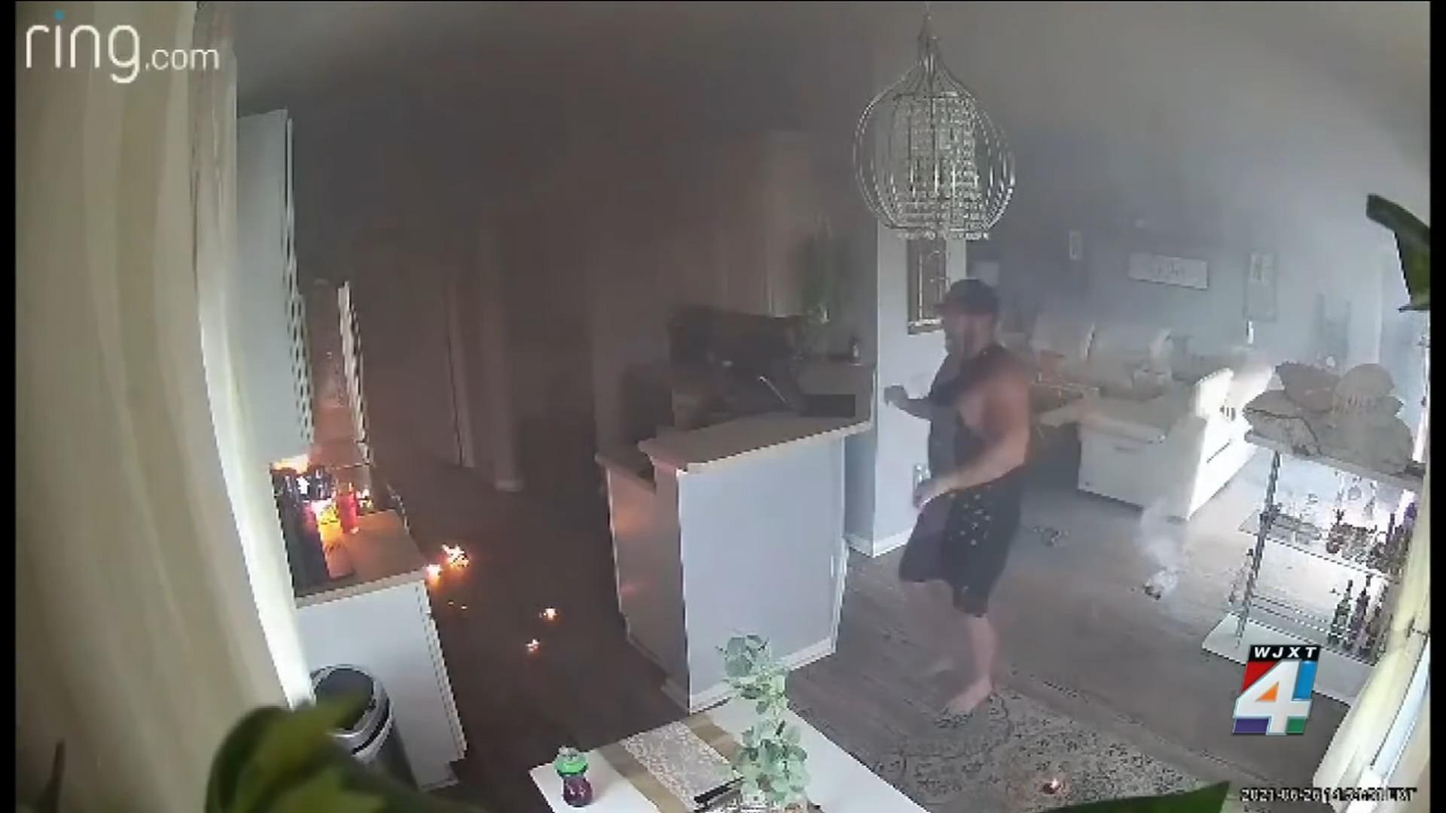fire: (427, 543, 469, 579), (524, 638, 539, 651), (543, 608, 557, 620)
